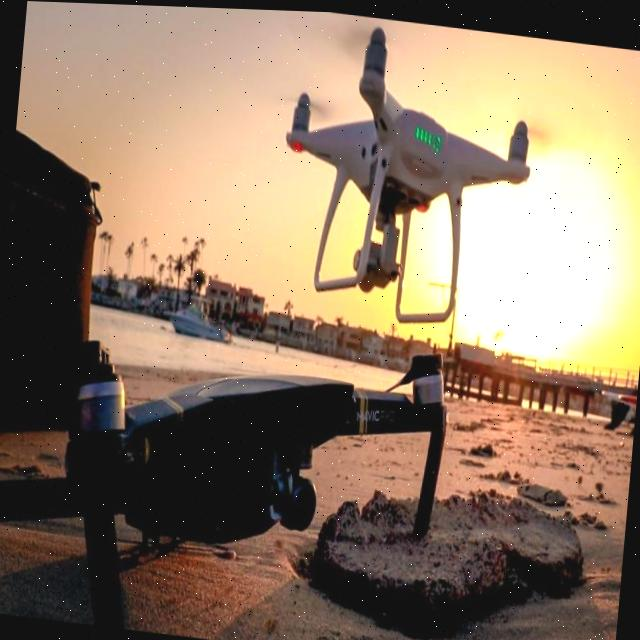drone: (28, 282, 508, 605), (256, 23, 556, 283)
